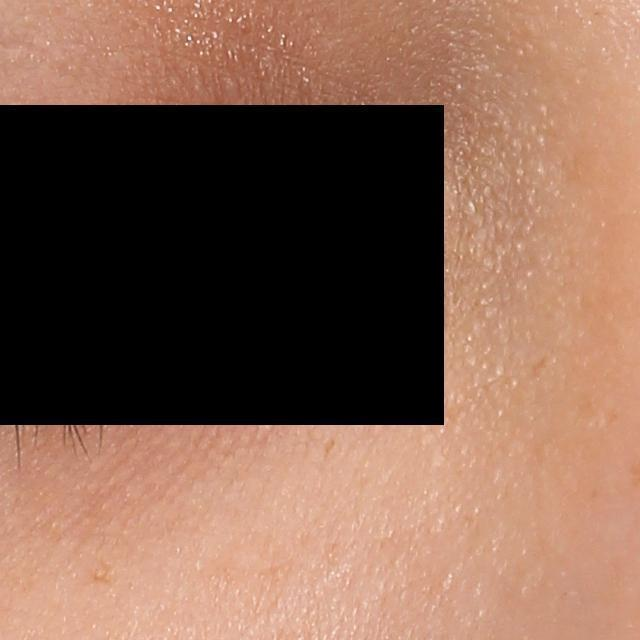melasma: (92, 559, 118, 585), (532, 354, 551, 381)
